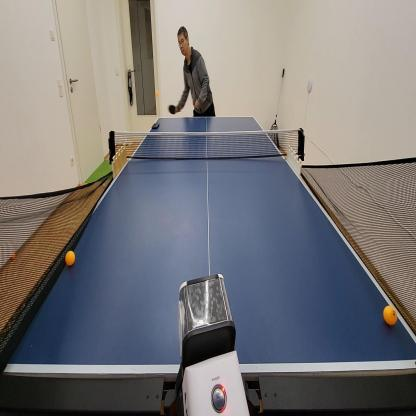Ball: (384, 306, 397, 324), (65, 250, 76, 265), (11, 251, 17, 261), (102, 180, 106, 188), (155, 90, 160, 96)
